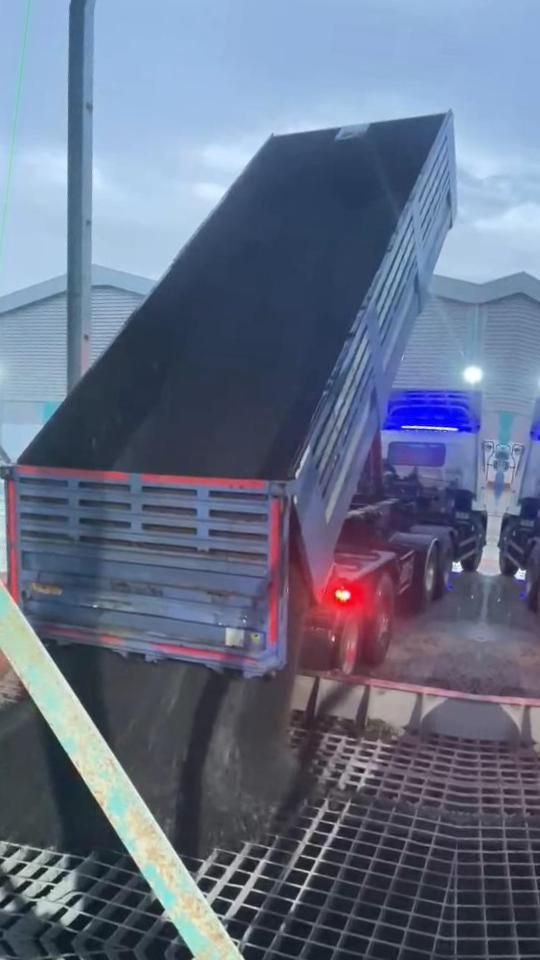gravel: (55, 564, 303, 854), (0, 702, 114, 851)
